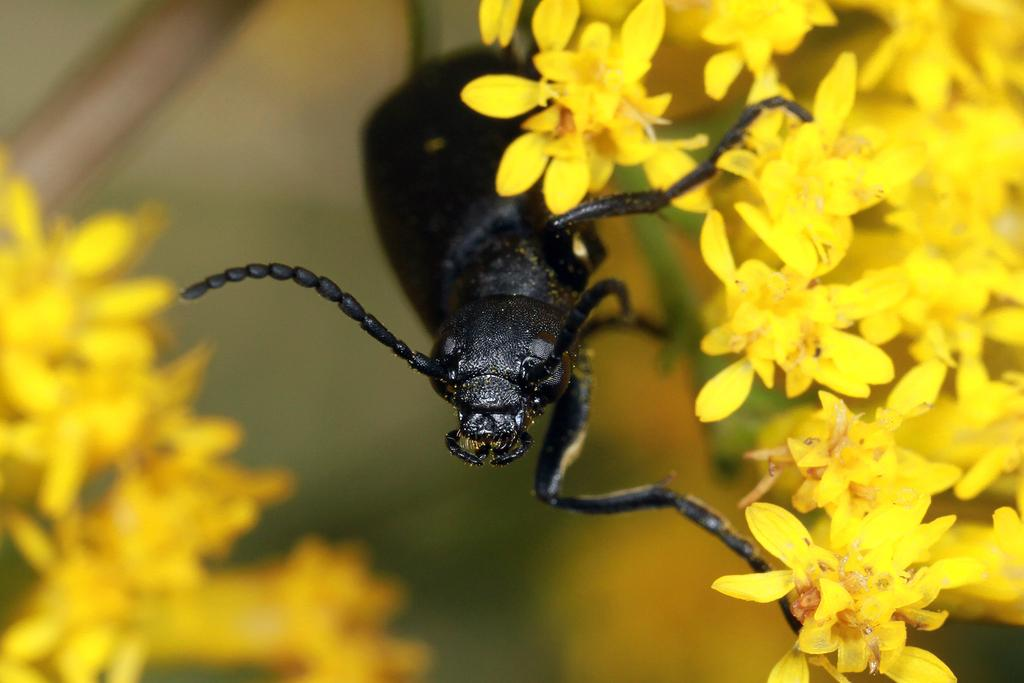blister_beetle: (113, 0, 917, 683)
